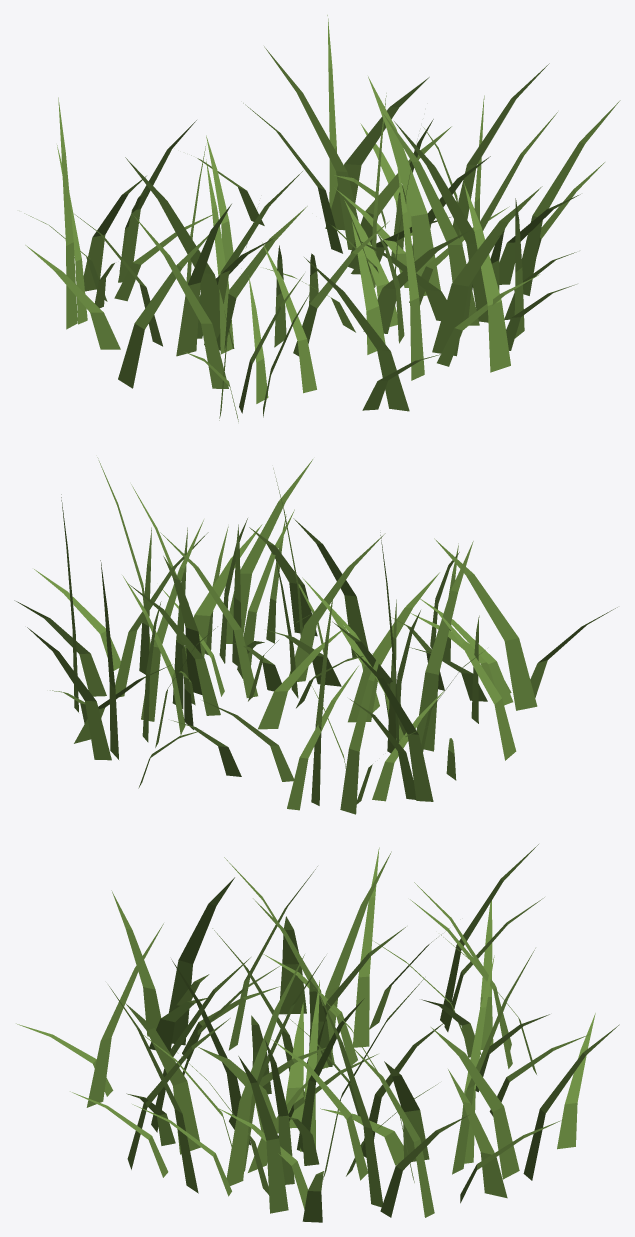
File: grass_short.glb
3 renders of one model, top to bottom at view 1: azimuth 30°, elevation 25°; view 2: azimuth 150°, elevation 25°; view 3: azimuth 270°, elevation 25°, orthographic. The views are drawn at different scales.
Visible parts, largest first — view 1: grass_short; view 2: grass_short; view 3: grass_short.
Part boxes in pixels (x1,y1,x2,y2): grass_short: (24,15,620,421); grass_short: (14,457,617,814); grass_short: (16,844,619,1222).
Bounding box in the file's own units: 1.34 × 0.4706 × 1.29.
